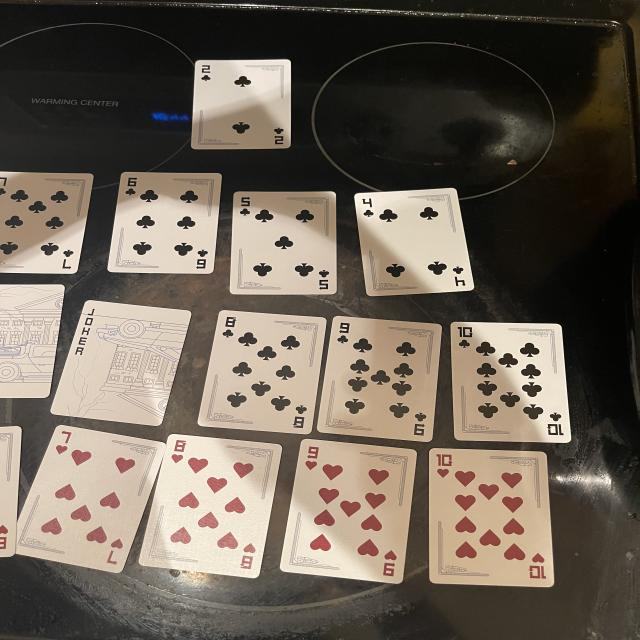10 of clubs: (450, 322, 572, 442)
10 of hearts: (428, 449, 555, 588)
2 of clubs: (192, 59, 292, 150)
4 of clubs: (355, 188, 473, 296)
5 of clubs: (230, 191, 337, 295)
6 of clubs: (108, 172, 222, 274)
7 of clubs: (0, 171, 93, 274)
7 of hearts: (17, 425, 165, 572)
8 of clubs: (198, 310, 327, 434)
8 of hearts: (138, 434, 282, 578)
9 of clubs: (317, 316, 442, 441)
9 of hearts: (280, 439, 417, 584)
Joker: (50, 301, 192, 425), (0, 285, 65, 399)
